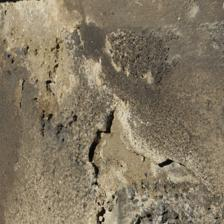Crack: (5, 58, 117, 157), (0, 46, 96, 138)
